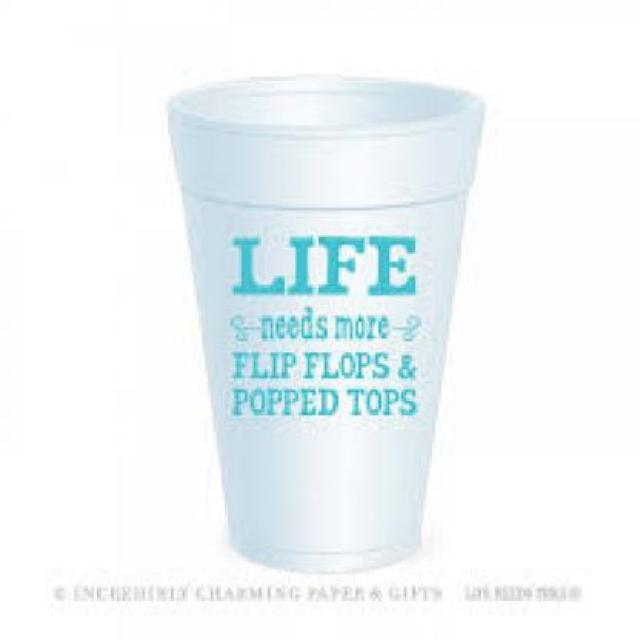paper: (166, 80, 485, 569)
